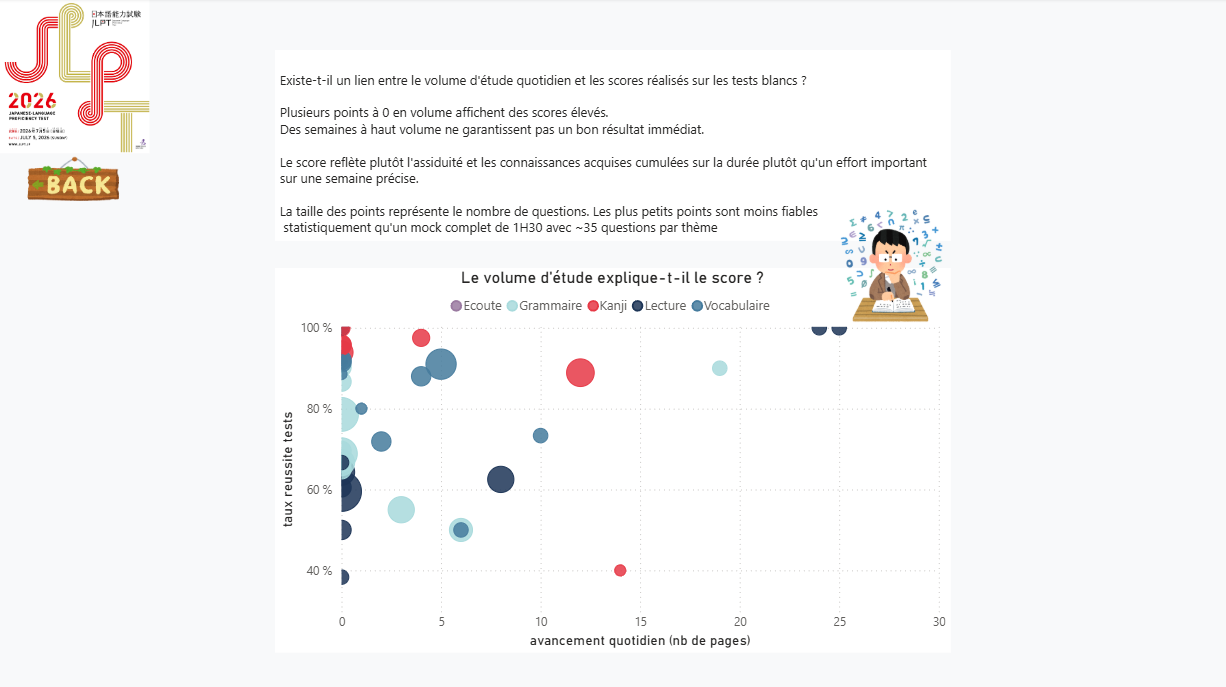

This screenshot's page, from the dashboard's own definition file:
{"tool":"powerbi","page":{"name":"correlation","canvas":[1280,720],"ordinal":2},"visuals":[{"type":"scatterChart","title":"Le volume d''étude explique-t-il le score ?","fields":{"X":["_Mesures.avancement quotidien"],"Series":["Dim_Theme.Theme"],"Y":["_Mesures.taux reussite tests"],"Category":["DimDate.Semaine ISO"],"Size":["CountNonNull(tests.Nb qts)"]},"box":[289.3,279.8,700.5,398.9],"z":0},{"type":"image","box":[0,0,159,161],"z":1000},{"type":"image","box":[30,161,100,56],"z":2000},{"type":"textbox","box":[289.3,53.9,700.5,197.6],"z":3000},{"type":"image","box":[869.7,216.5,120.1,121.9],"z":4500}]}

Visuals, with their boxes in screenshot pixels (x1, y1, x2, y2), scaled from the page's 1280x720 canvas onto the 1226x687 screenshot:
"Le volume d''étude explique-t-il le score ?" scatterChart: detection(277, 267, 948, 648)
image: detection(0, 0, 152, 154)
image: detection(29, 154, 125, 207)
textbox: detection(277, 51, 948, 240)
image: detection(833, 207, 948, 323)
